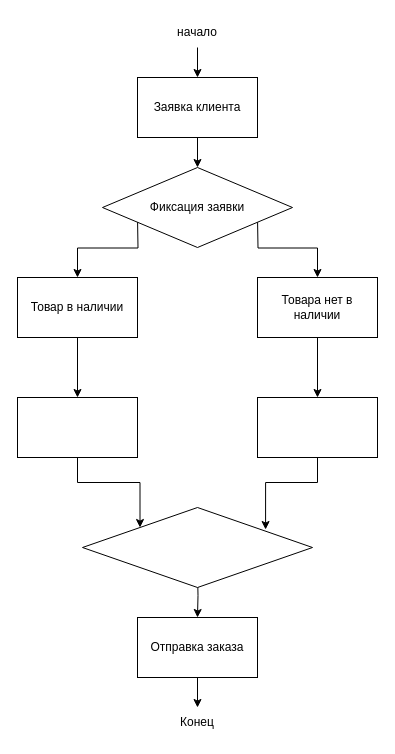
Some shapes in this 395 by 754 pixel diagram are drawn without their labels. The box of each missing label's shape, as (x1, y1, x2, y2) in pixels:
Подготовка заказа: (82, 506, 312, 588)
Предложения ожидания/ Альтернативы: (256, 396, 378, 458)
Согласование условий: (16, 396, 138, 458)
